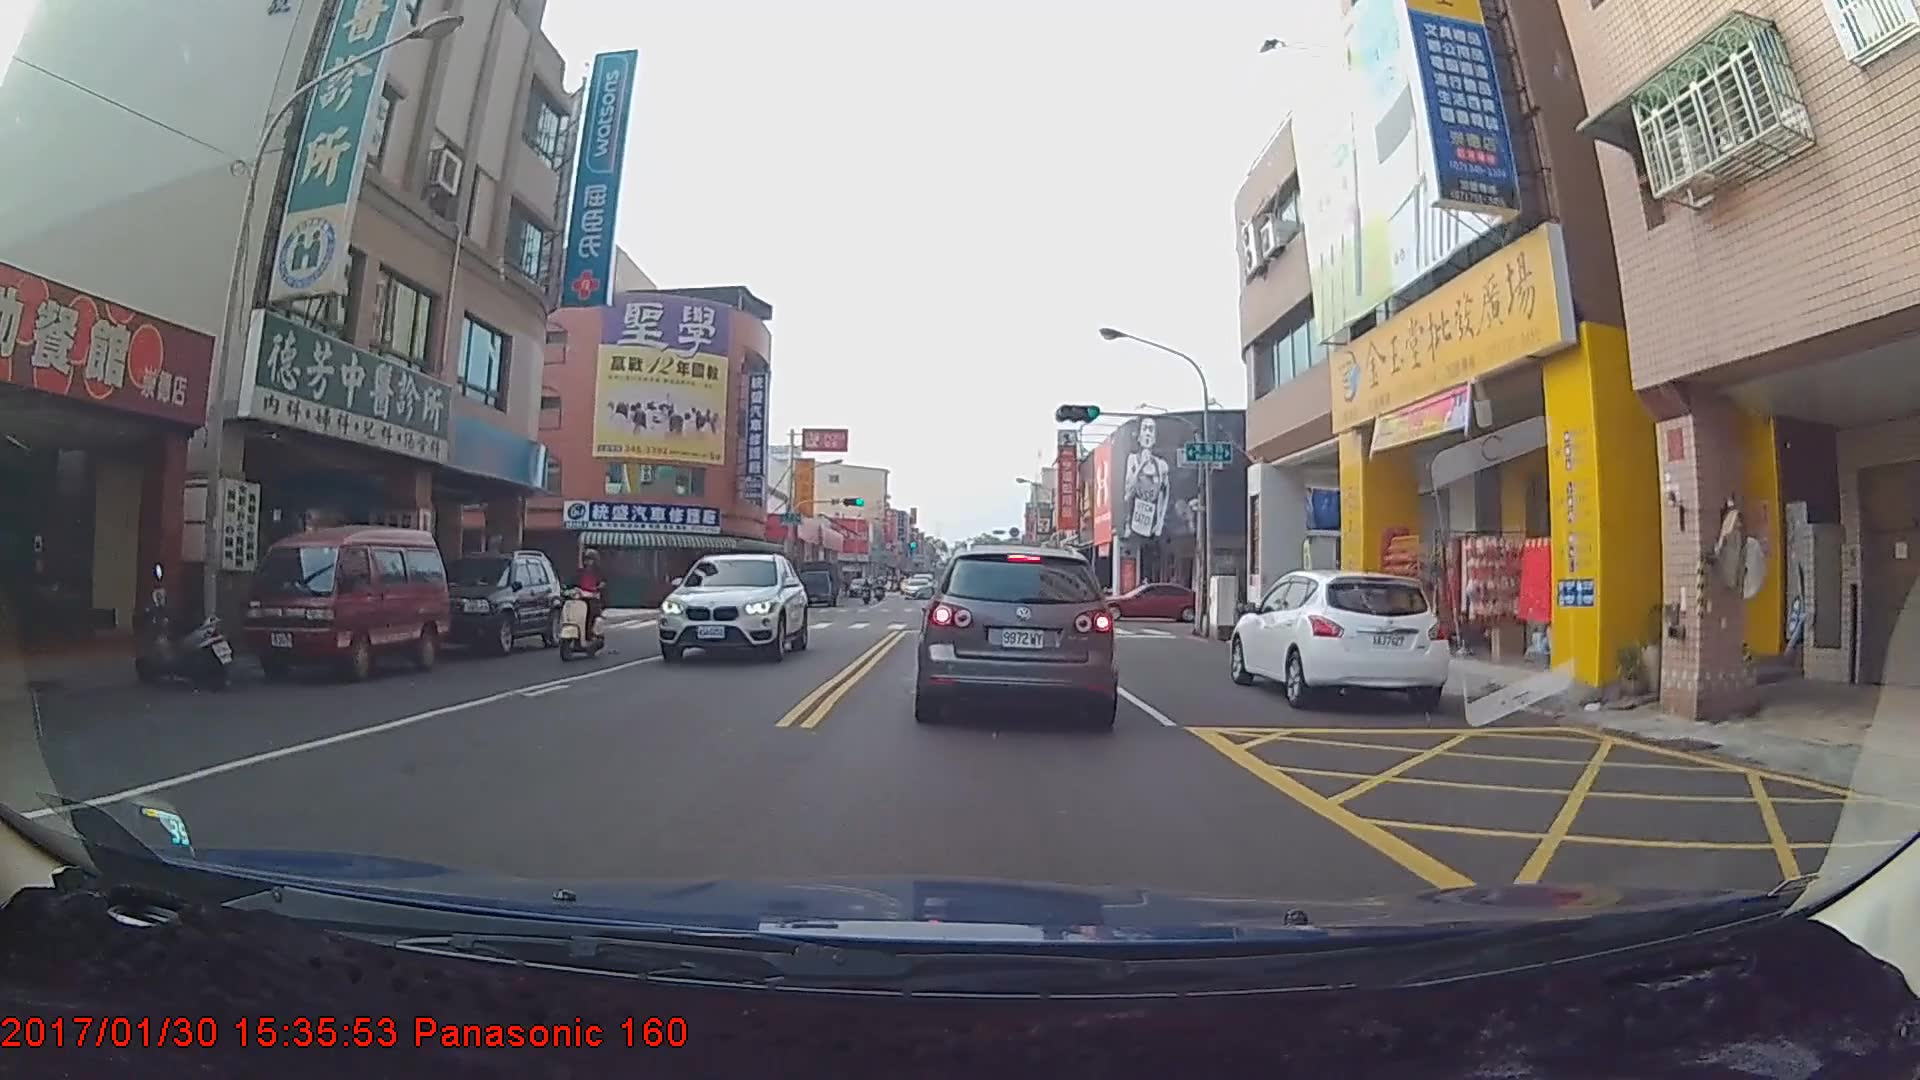rider: (549, 547, 610, 668), (858, 576, 878, 605)
vehicle: (917, 543, 1115, 726), (1228, 566, 1449, 708), (244, 529, 449, 682), (405, 547, 565, 658), (657, 551, 808, 664), (1094, 579, 1202, 619), (789, 556, 841, 605), (902, 576, 931, 597)
